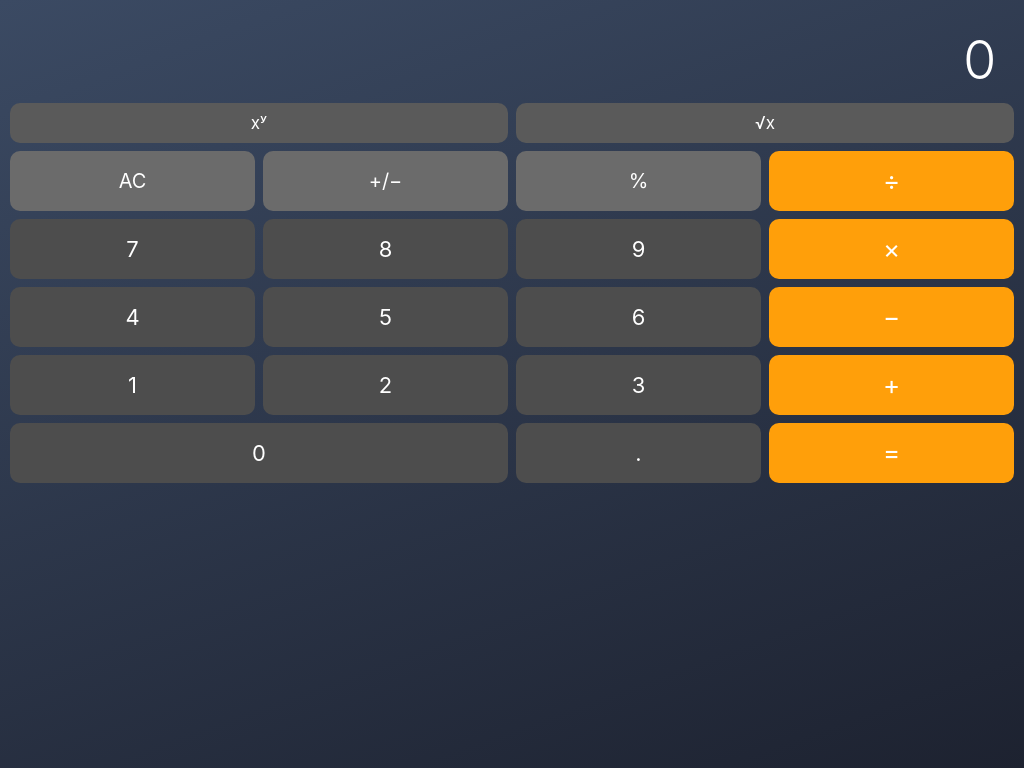
Test: Calculator › evaluates the pending operation when a second operator is pressed
Click the button "2". click: [386, 385]
box: 263,355 -> 508,415
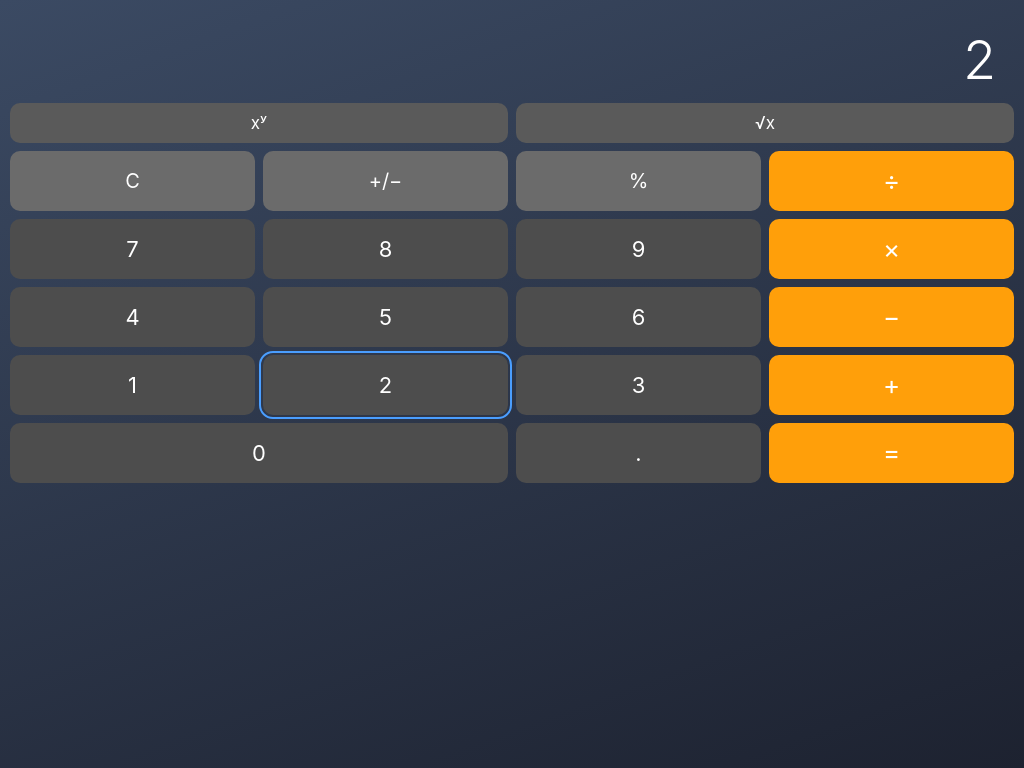
Click the button named "Add". click: [892, 385]
box: 769,355 -> 1014,415
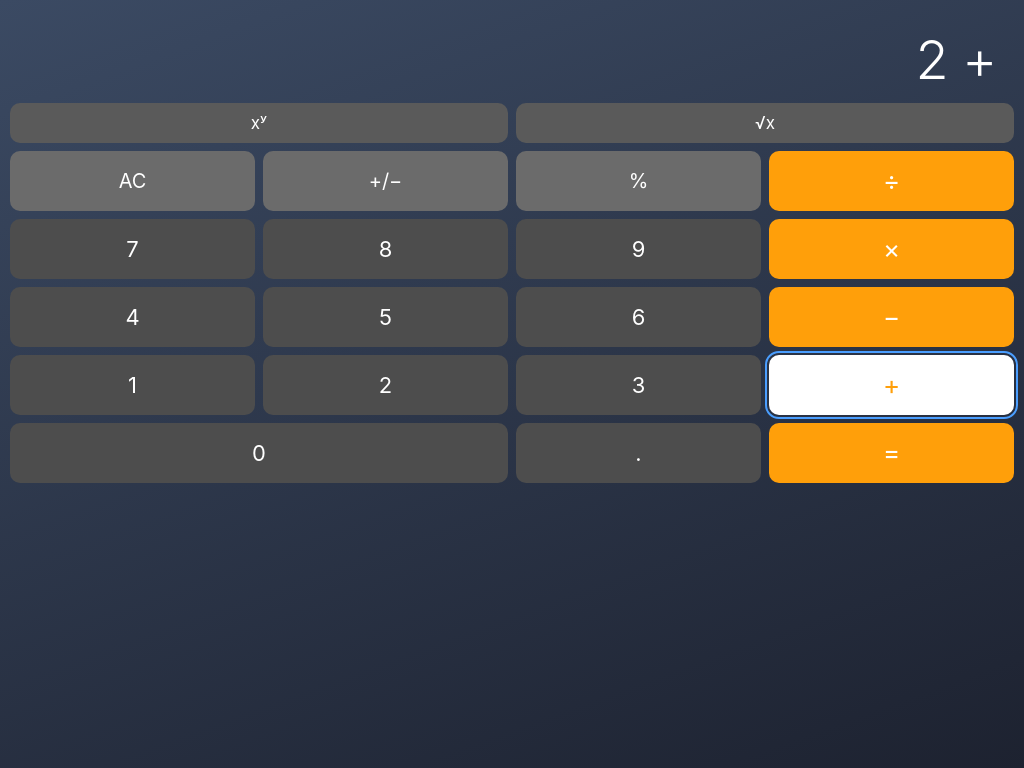
Click the button "3". click: [638, 385]
box: 516,355 -> 761,415
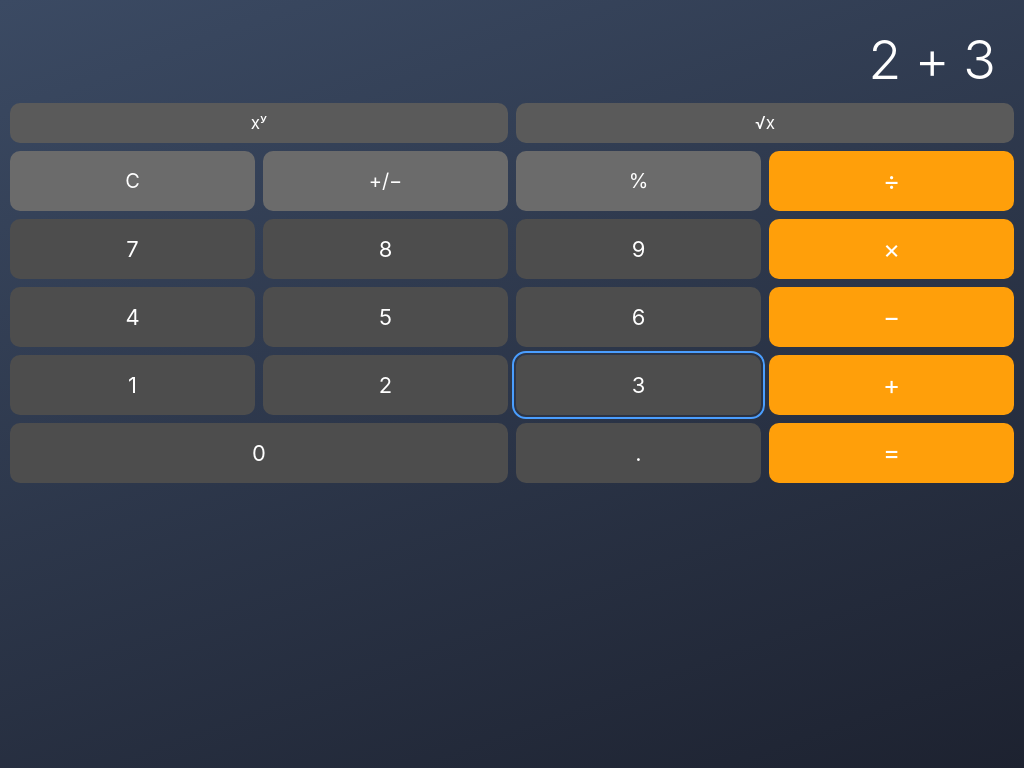
Click the button named "Add". click: [892, 385]
box: 769,355 -> 1014,415
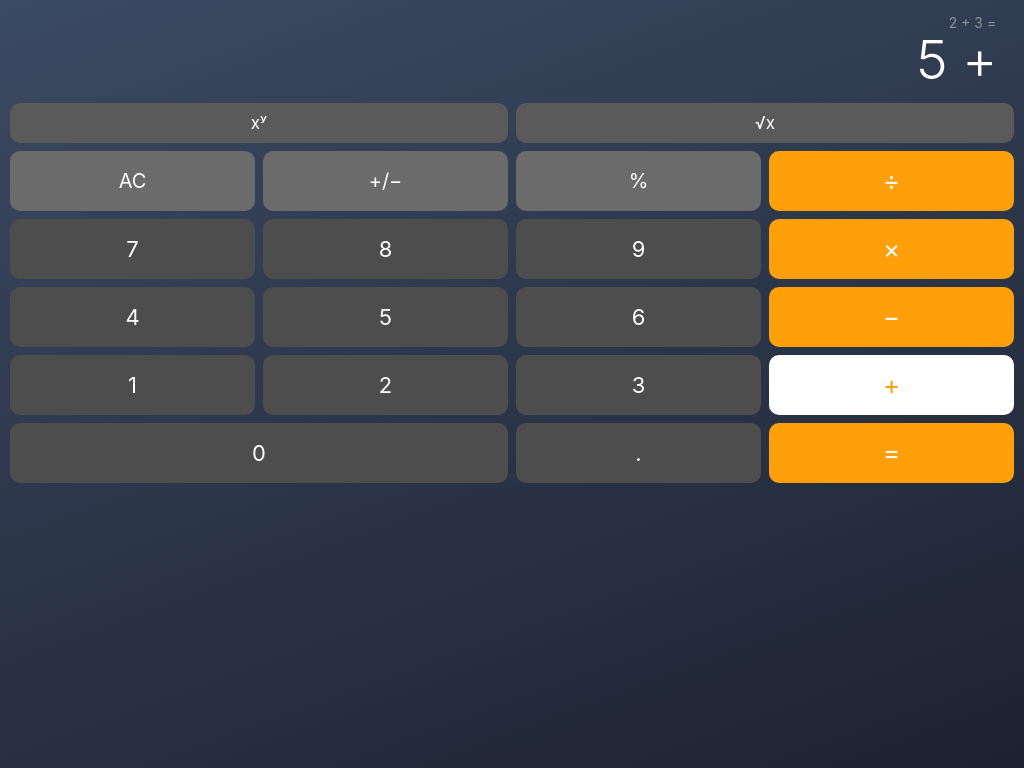
Expected: the text with test id "display" shows "5", 915,32 -> 996,89
